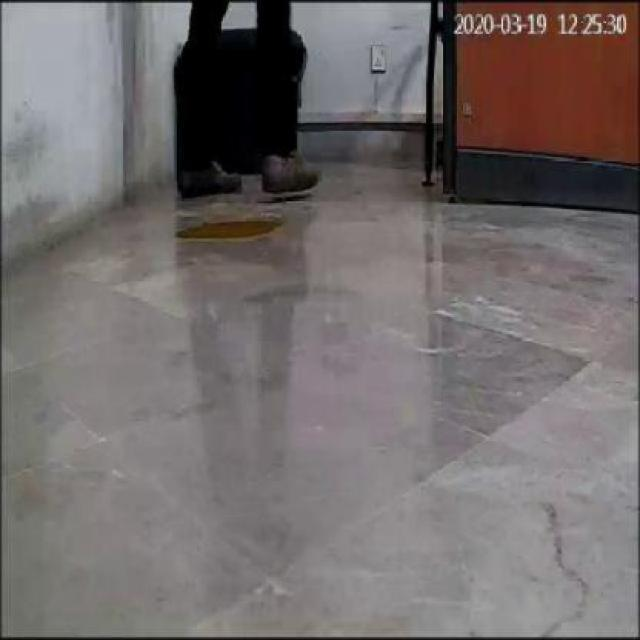spillage: (176, 212, 284, 245)
